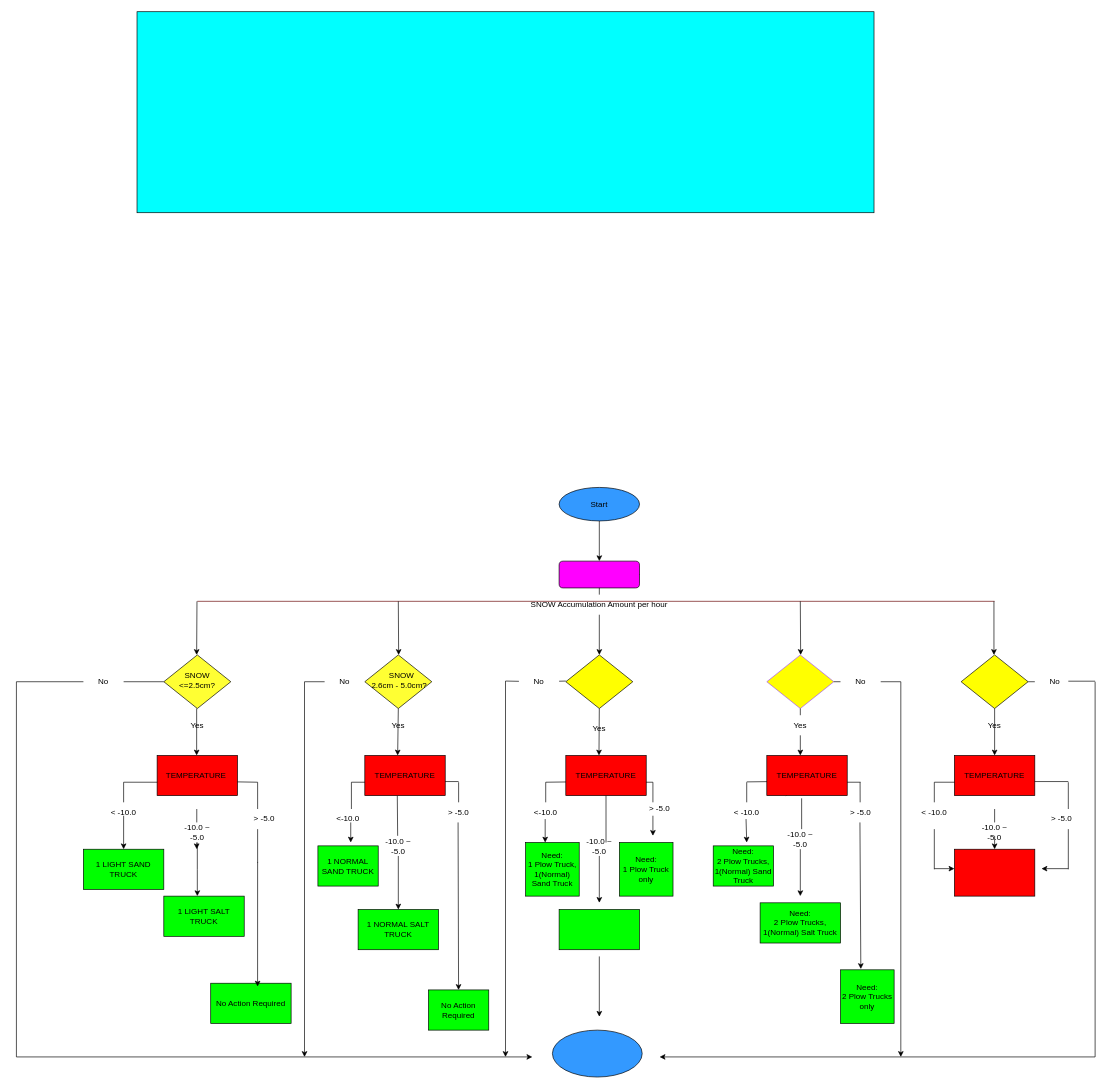
Image size: 1112x1089. Some labels were removed from this diagram. The centre of each missing label's shape, as x and y in pixels:
"End" goes at [597,1053].
"is SNOW 15.1cm- 45.0cm?" goes at [800,681].
"is SNOW 45.1cm+?" goes at [994,681].
"Need: 1 Plow Truck, 1(Normal) Salt Truck" goes at [599,929].
"Snow" goes at [599,574].
"SNOW 5.1cm - 15.0cm?" goes at [599,681].
"State of emergency (organize army and other jurisdiction support)" goes at [994,872].
"YAKSHIT AGGARWAL GROUP 3 MEMBER1 175307214" goes at [505,112].
